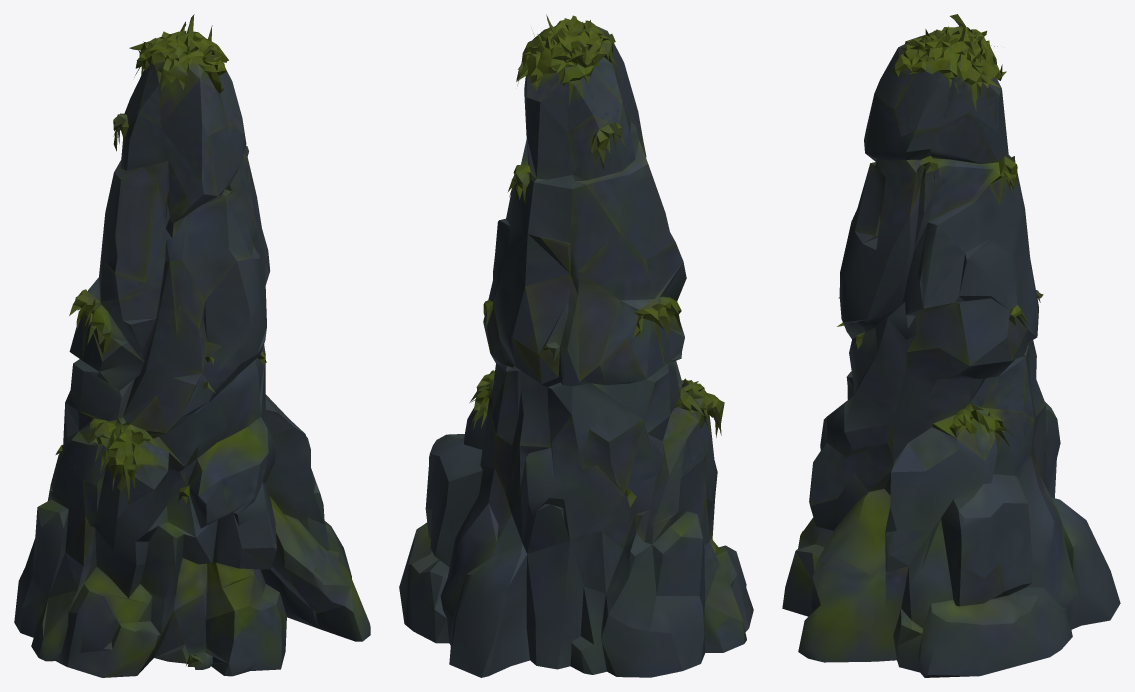
File: mossy_boulder_b.glb
The picture shows the model from 3 angles, left to right: view 1: azimuth 30°, elevation 25°; view 2: azimuth 150°, elevation 25°; view 3: azimuth 270°, elevation 25°; orthographic projection. The views are drawn at different scales.
Bounding box in the file's own units: 1.06 × 1.9 × 0.9962.
1 material, 1 textured.
